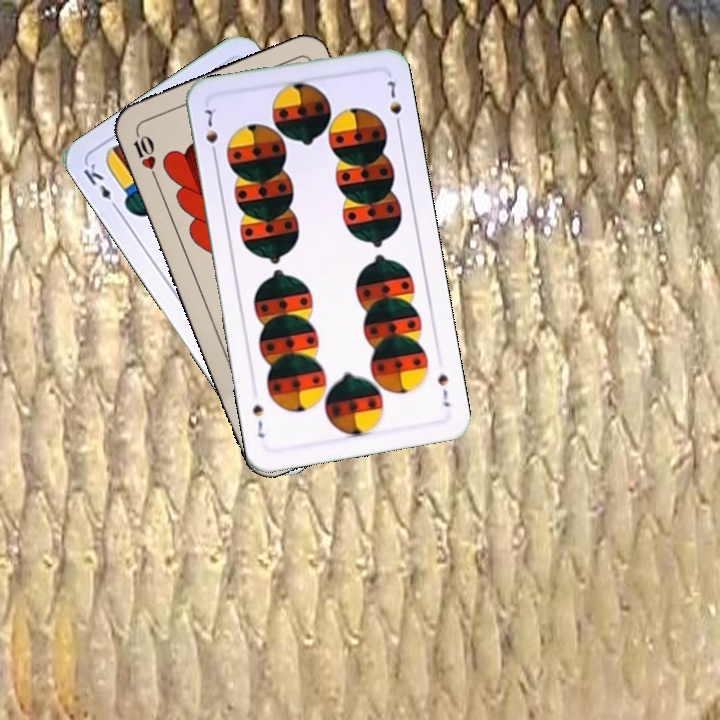EK: (78, 159, 122, 214)
H10: (128, 127, 161, 184)
S7: (200, 105, 221, 161), (433, 369, 453, 410)
